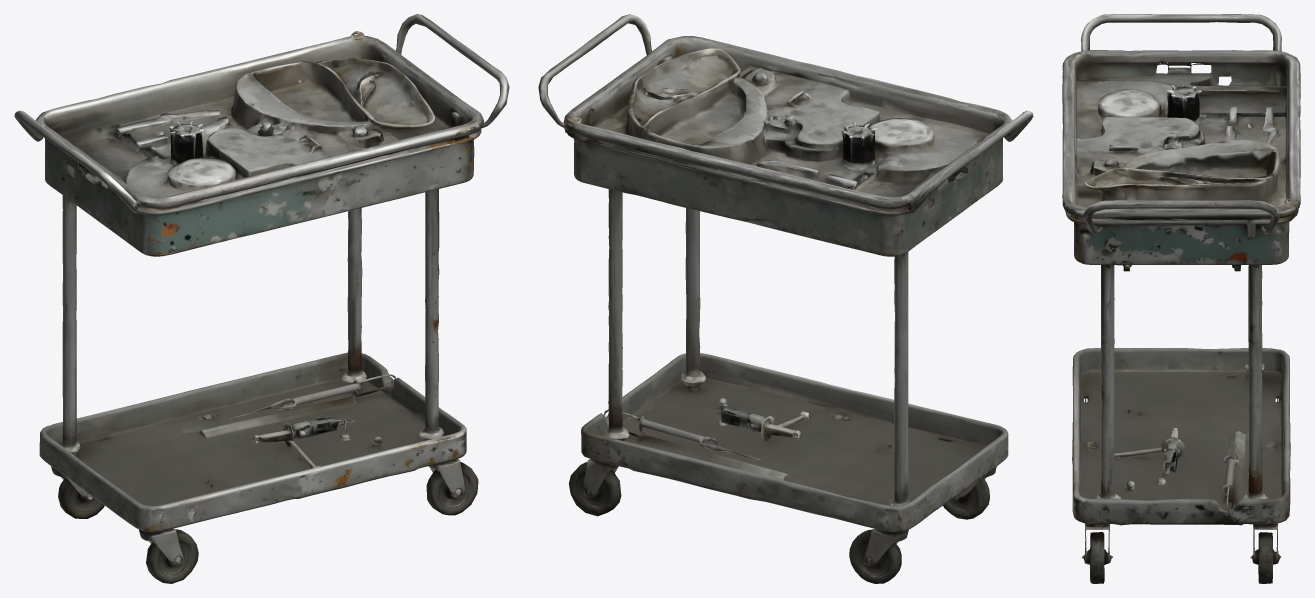
3 renders of one model, left to right at view 1: azimuth 30°, elevation 25°; view 2: azimuth 150°, elevation 25°; view 3: azimuth 270°, elevation 25°, orthographic. The views are drawn at different scales.
Visible parts, largest first — view 1: tripo_node_12adf6f3-88e6-49d8-8609-388eb0e3ac88; view 2: tripo_node_12adf6f3-88e6-49d8-8609-388eb0e3ac88; view 3: tripo_node_12adf6f3-88e6-49d8-8609-388eb0e3ac88.
Boxes of the visible parts, left/top/right/bottom form: tripo_node_12adf6f3-88e6-49d8-8609-388eb0e3ac88: left=14, top=14, right=509, bottom=583; tripo_node_12adf6f3-88e6-49d8-8609-388eb0e3ac88: left=538, top=14, right=1033, bottom=583; tripo_node_12adf6f3-88e6-49d8-8609-388eb0e3ac88: left=1062, top=14, right=1300, bottom=583.
Bounding box in the file's own units: 1 × 0.9983 × 0.5308.
Materials: 1 (1 with a texture image).
